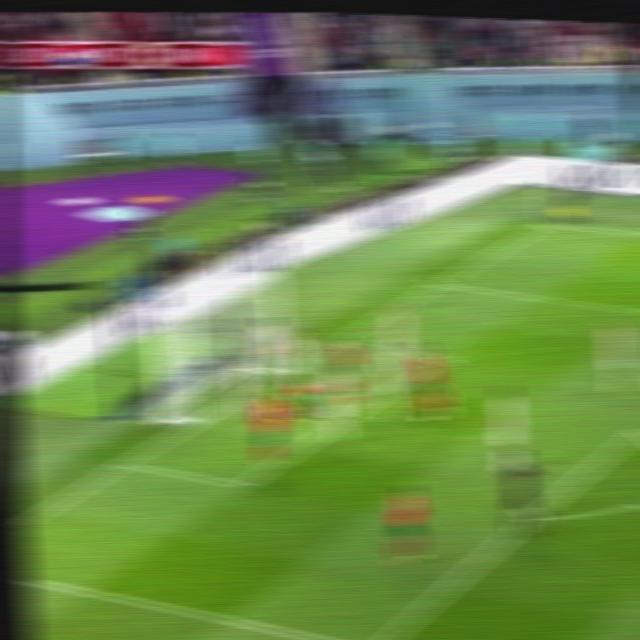bigarea_bottom_inner: (352, 629, 391, 640)
bigarea_top_outter: (424, 270, 455, 294)
bottom_arc_area_intersection: (518, 506, 549, 528)
corner: (528, 213, 564, 233)
smallarea_bottom_inner: (224, 466, 261, 502)
smallarea_bottom_outter: (105, 447, 140, 479)
smallarea_top_inner: (426, 343, 456, 370)
smallarea_top_outter: (322, 329, 350, 350)
